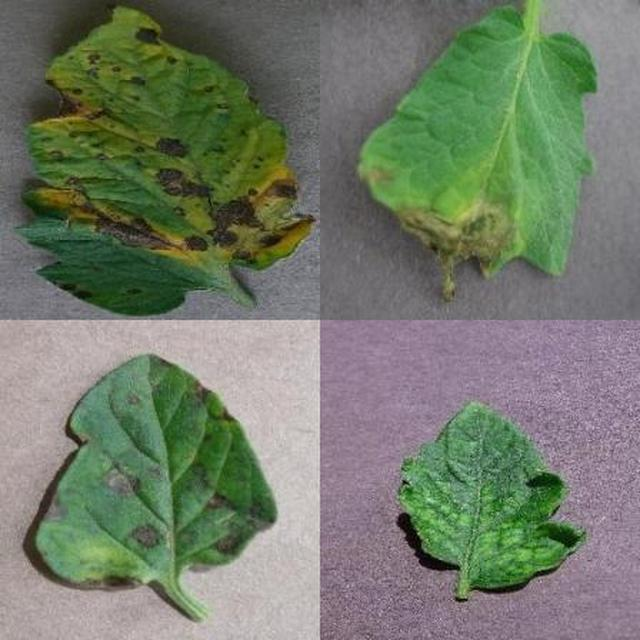Early Blight Leaf: (224, 216, 640, 640)
